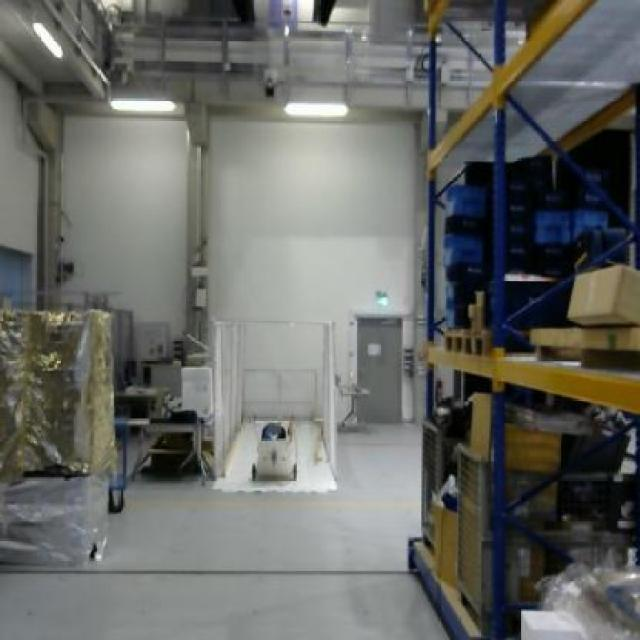box: (564, 262, 638, 330), (470, 385, 492, 463)
